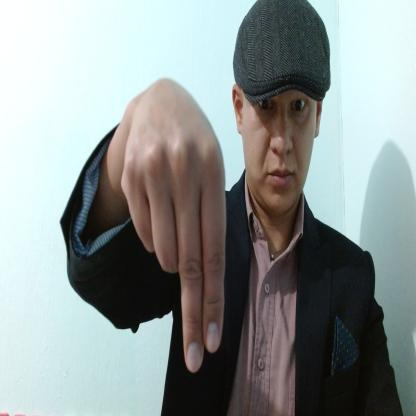N: (121, 78, 228, 374)
